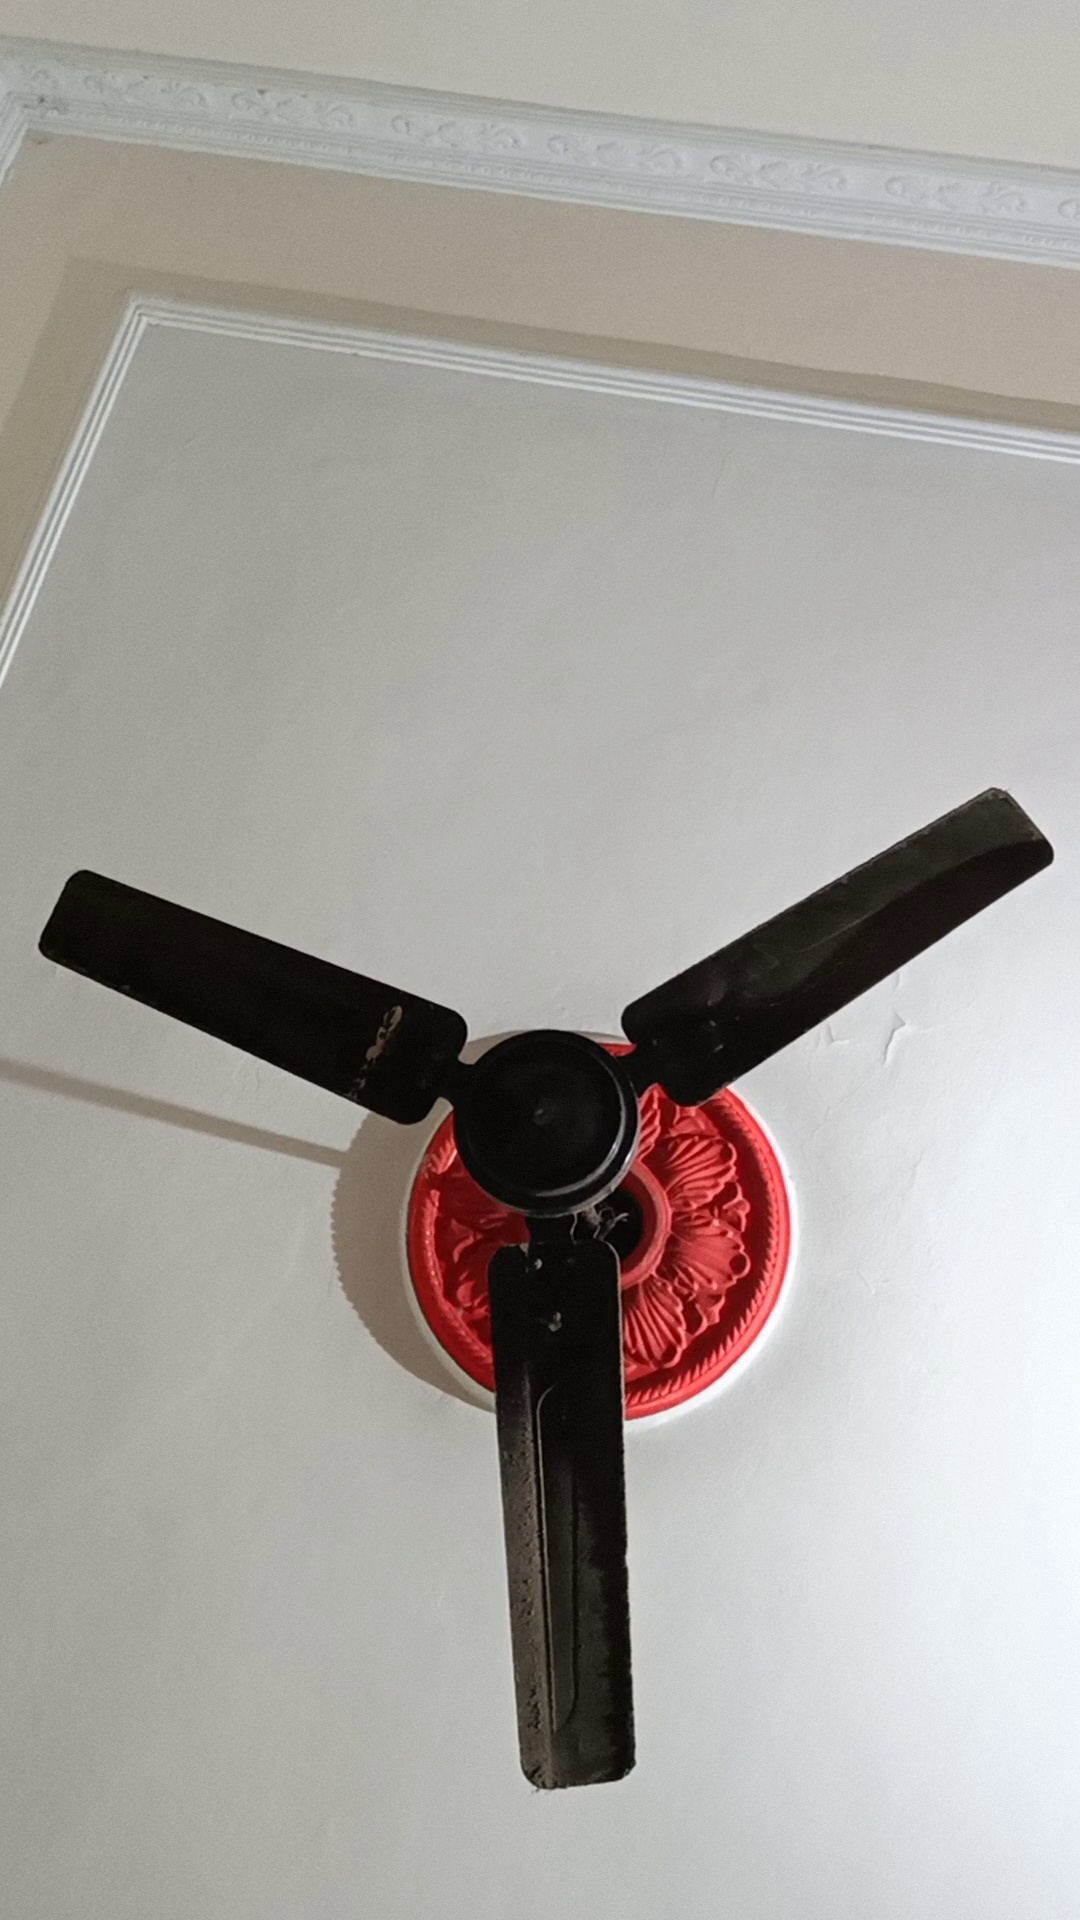fan: (37, 775, 1080, 1830)
